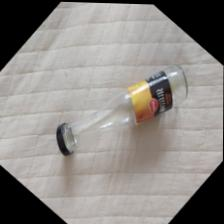glass: (20, 37, 206, 223)
